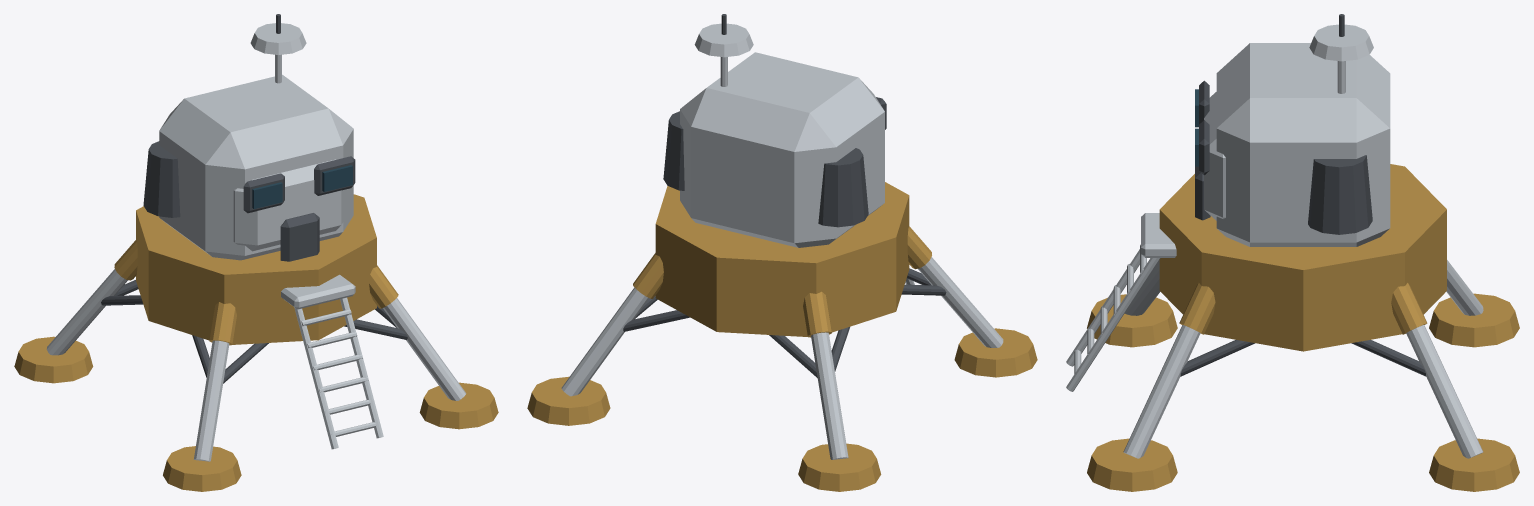
File: NEW_RECOVERY_127_LOD1.fbx
The picture shows the model from 3 angles, left to right: view 1: azimuth 30°, elevation 25°; view 2: azimuth 150°, elevation 25°; view 3: azimuth 270°, elevation 25°; orthographic projection. The views are drawn at different scales.
Parts seen in each view (by area): view 1: Generic lunar lander solid decorative assembly; view 2: Generic lunar lander solid decorative assembly; view 3: Generic lunar lander solid decorative assembly.
Part boxes in pixels (x1,y1,x2,y2): Generic lunar lander solid decorative assembly: (14,14,498,491); Generic lunar lander solid decorative assembly: (527,14,1037,491); Generic lunar lander solid decorative assembly: (1066,14,1519,491).
Size of the model in its own units: 362 by 379 by 375.
